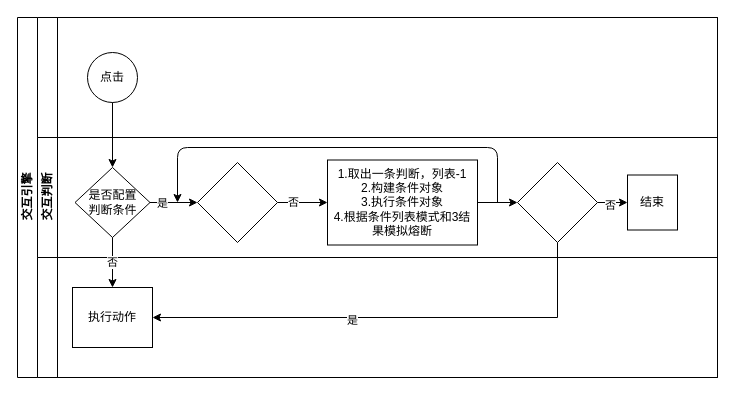
Image size: 735x395. Some labels were removed from this diagram. The box of each missing label's shape, as (x1, y1, x2, y2) in pixels:
判断列表 长度===0: (196, 162, 278, 242)
动作: (36, 256, 718, 378)
是否满足 条件: (516, 162, 598, 242)
触发器: (36, 16, 718, 138)
